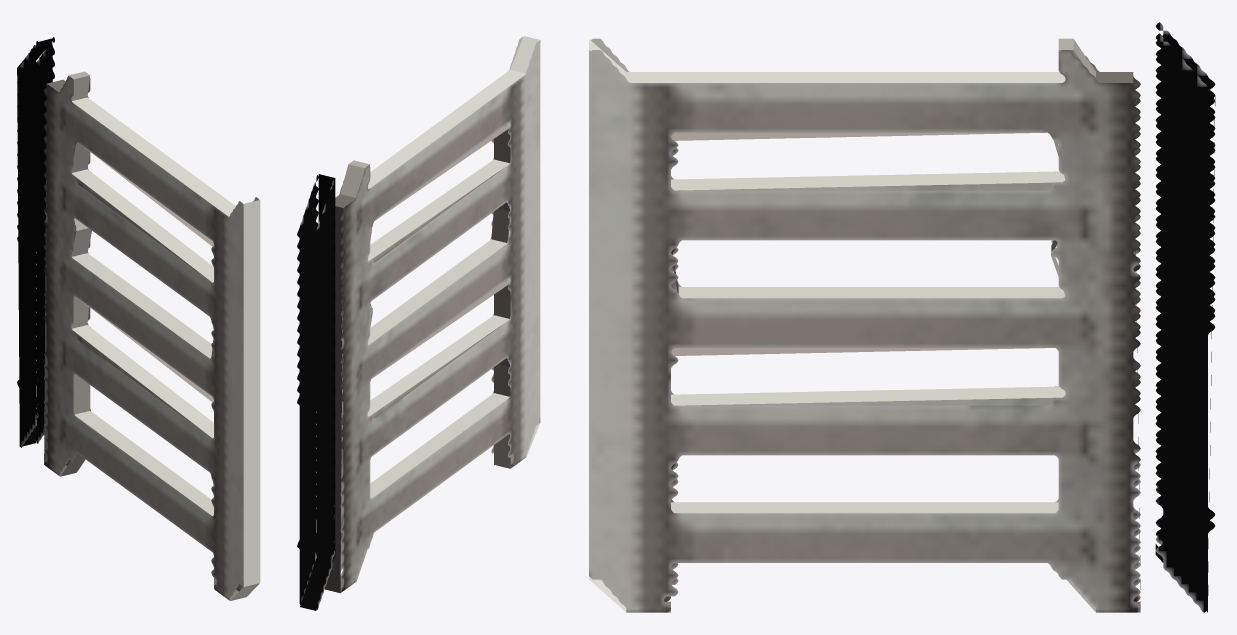
File: pz_native_fixtures_railings_01_64_frame.obj
The picture shows the model from 3 angles, left to right: view 1: azimuth 30°, elevation 25°; view 2: azimuth 150°, elevation 25°; view 3: azimuth 270°, elevation 25°; orthographic projection. The views are drawn at different scales.
Visible parts, largest first — view 1: pz_native_fixtures_railings_01_64_frame; view 2: pz_native_fixtures_railings_01_64_frame; view 3: pz_native_fixtures_railings_01_64_frame.
Part boxes in pixels (x1=…): pz_native_fixtures_railings_01_64_frame: x1=17, y1=37, x2=260, y2=600; pz_native_fixtures_railings_01_64_frame: x1=297, y1=36, x2=540, y2=610; pz_native_fixtures_railings_01_64_frame: x1=589, y1=22, x2=1215, y2=612.
Size of the model in its own units: 0.045 by 1.12 by 1.11.
Materials: 1 (1 with a texture image).
